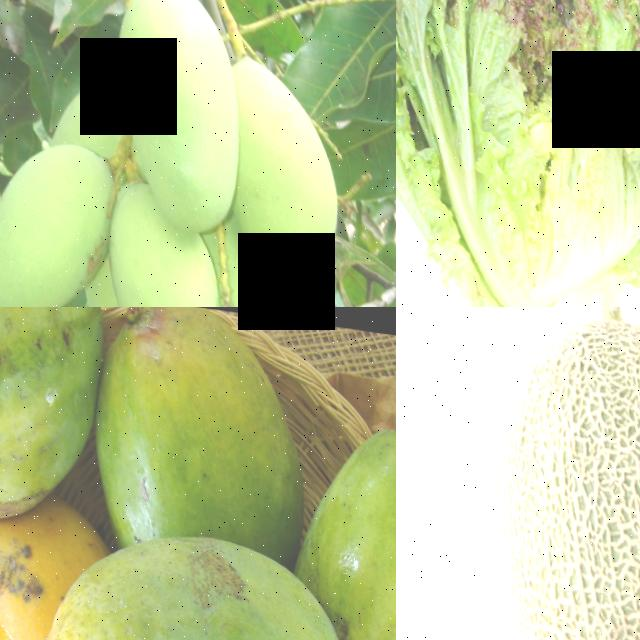lettuce: (396, 0, 640, 307)
mango: (90, 307, 307, 543), (63, 507, 344, 640), (99, 0, 245, 225), (0, 307, 112, 532), (225, 45, 337, 268), (0, 122, 112, 307), (321, 403, 396, 640), (95, 211, 219, 307), (215, 258, 314, 307)
melon: (459, 307, 640, 640)
